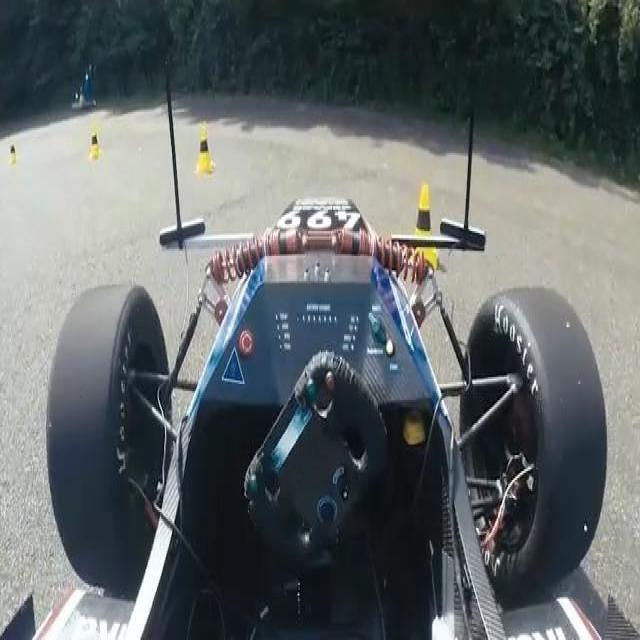yellow_cone: (407, 181, 438, 271), (195, 124, 217, 174), (90, 126, 103, 160)
